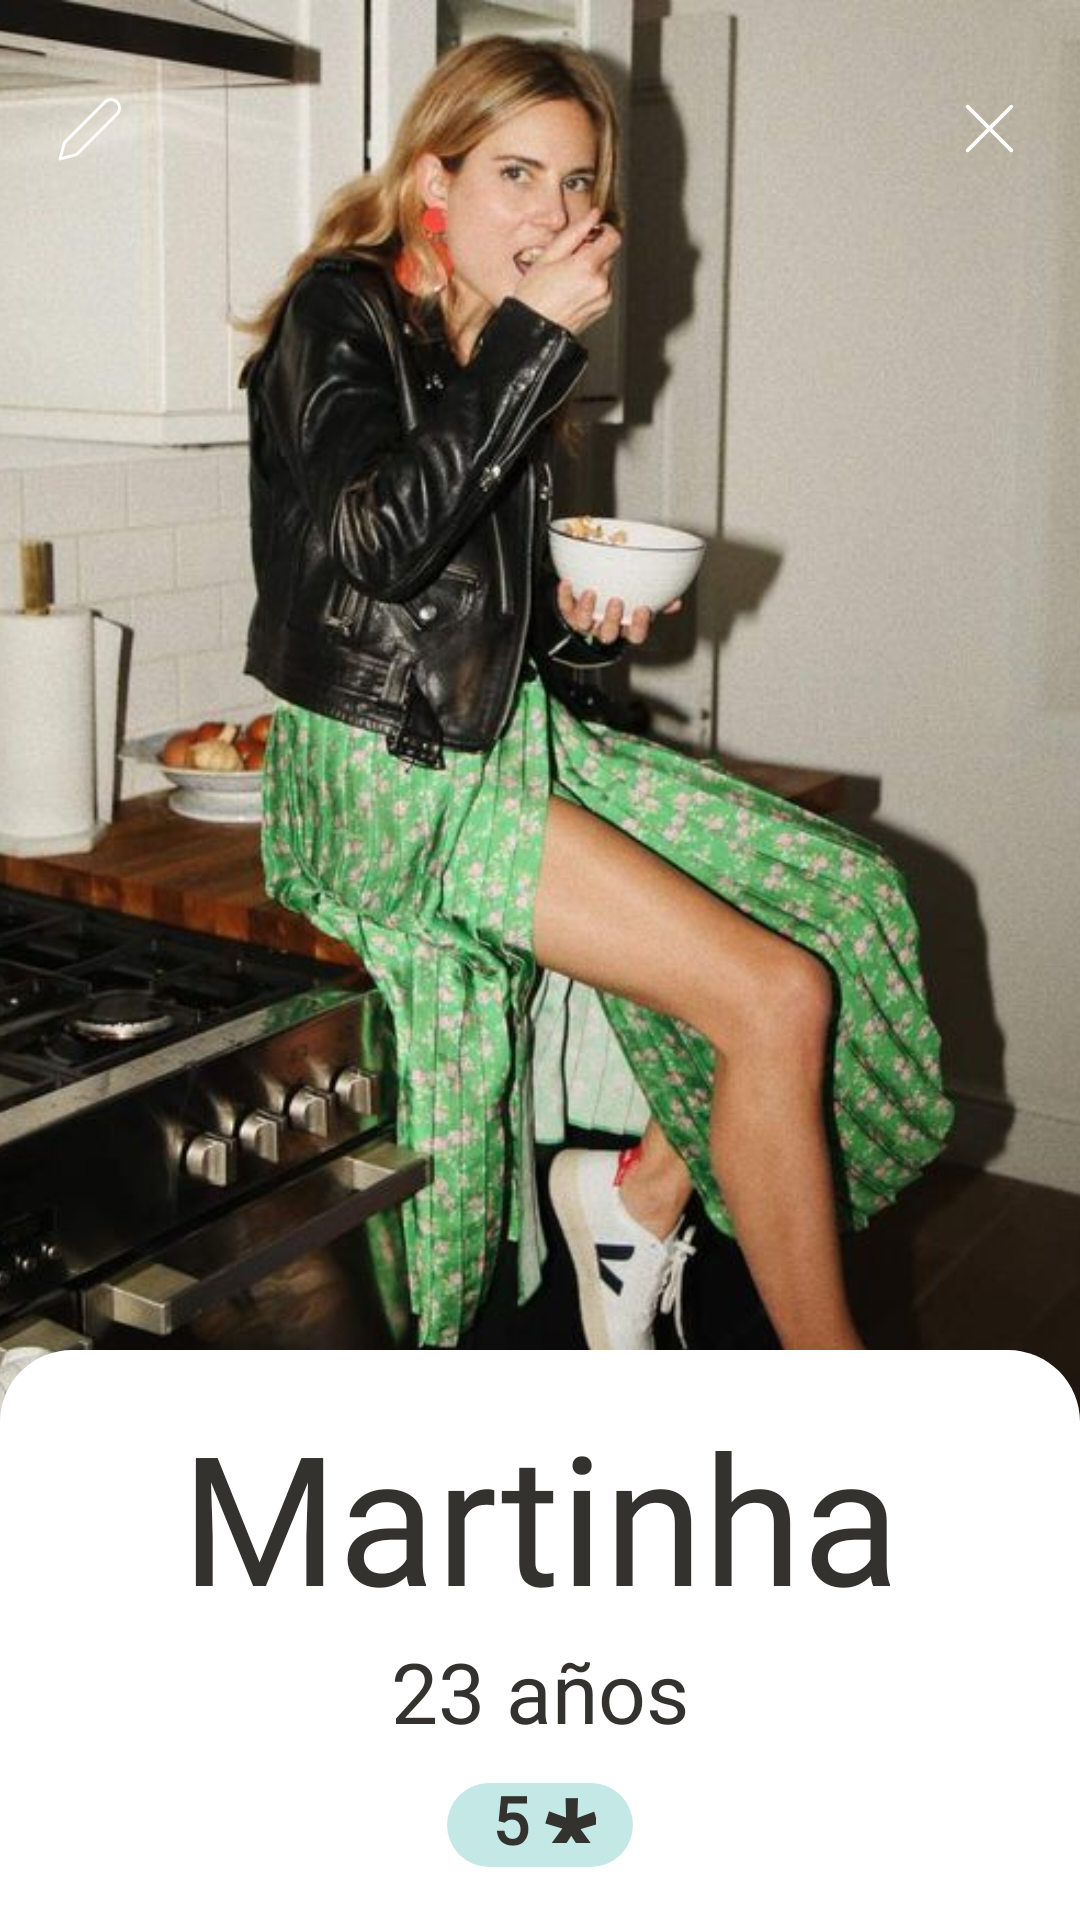

Point at icon controls on the screen. Image size 1080×1920, points as point (x, y).
cerrar blanco: point (989, 129)
lapiz editar: point (90, 126)
